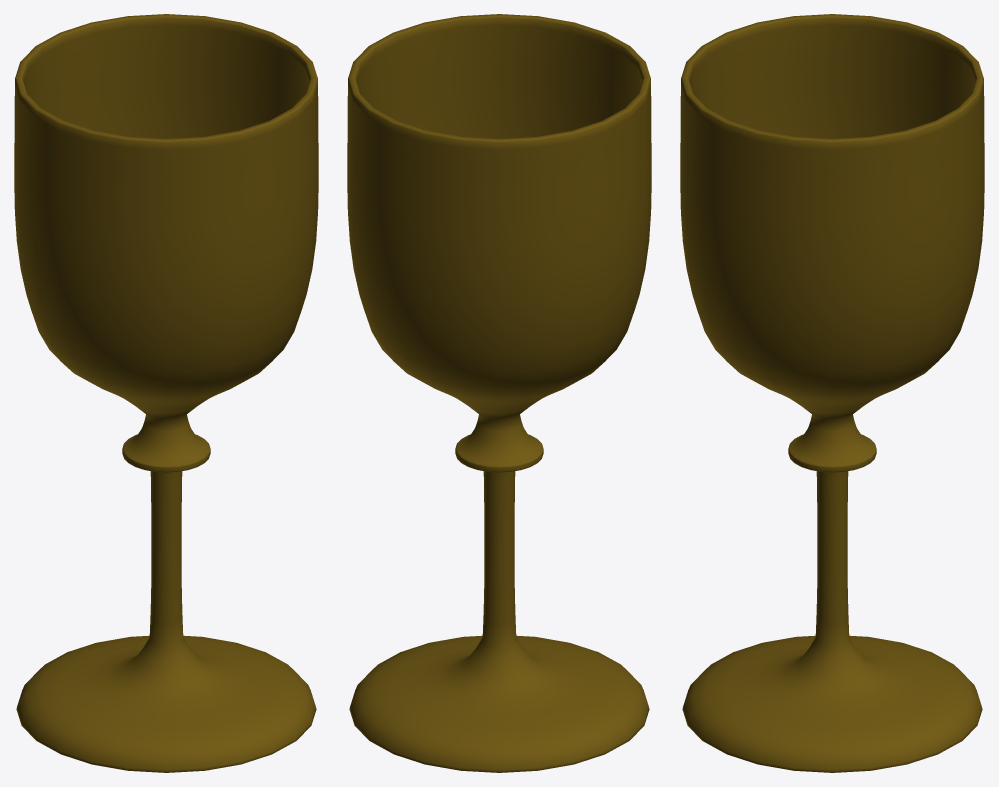
File: Goblet.fbx
3 views of the same model, side by side, from view 1: azimuth 30°, elevation 25°; view 2: azimuth 150°, elevation 25°; view 3: azimuth 270°, elevation 25° (orthographic).
Parts seen in each view (by area): view 1: Goblet.002; view 2: Goblet.002; view 3: Goblet.002.
Part boxes in pixels (<box>): Goblet.002: <box>14,14,318,772</box>; Goblet.002: <box>347,14,651,772</box>; Goblet.002: <box>680,14,984,772</box>.
Bounding box in the file's own units: 10.92 × 25.09 × 10.92.
